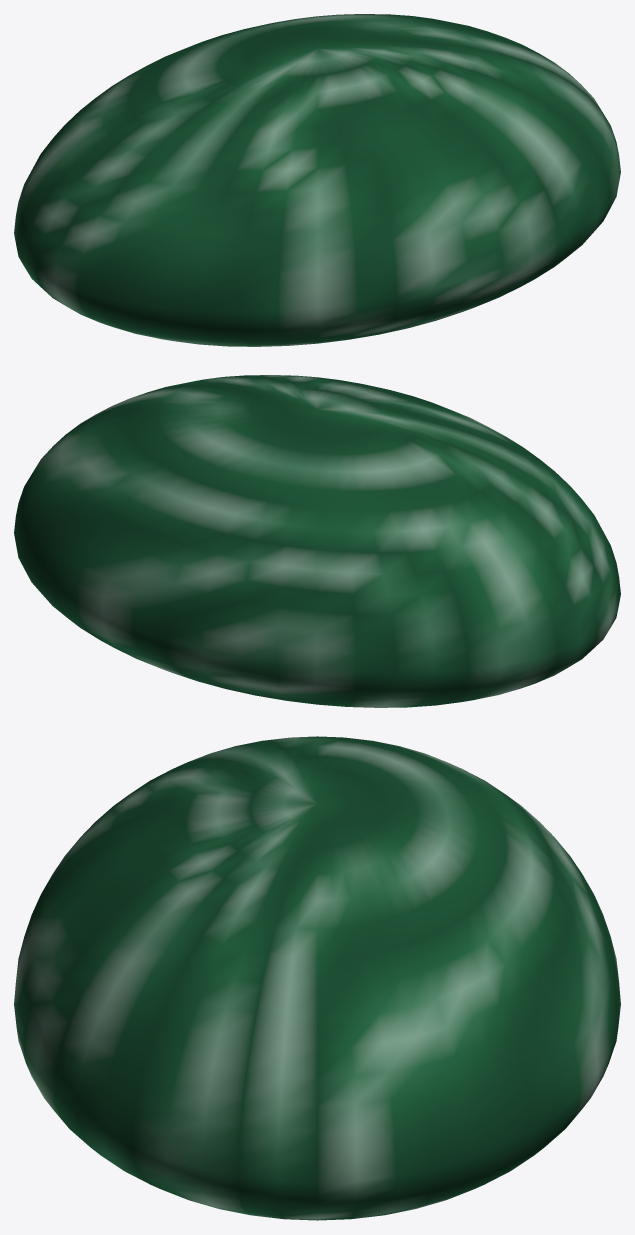
File: jewelry.glb
3 views of the same model, one above another, from view 1: azimuth 30°, elevation 25°; view 2: azimuth 150°, elevation 25°; view 3: azimuth 270°, elevation 25° (orthographic). The views are drawn at different scales.
Parts seen in each view (by area): view 1: malachite; view 2: malachite; view 3: malachite.
Boxes of the visible parts, left/top/right/bottom form: malachite: left=14, top=14, right=620, bottom=346; malachite: left=14, top=375, right=620, bottom=707; malachite: left=14, top=736, right=620, bottom=1220.
Size of the model in its own units: 2.36 by 1 by 1.7.
